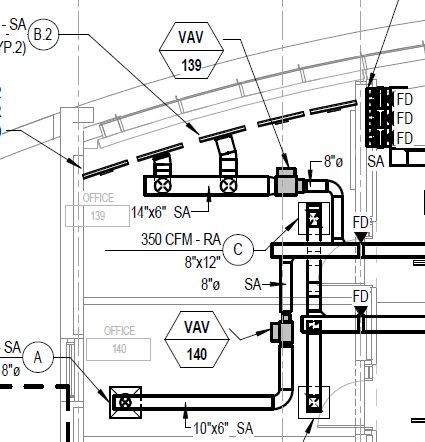VAV: (261, 157, 309, 208), (265, 302, 304, 357)
